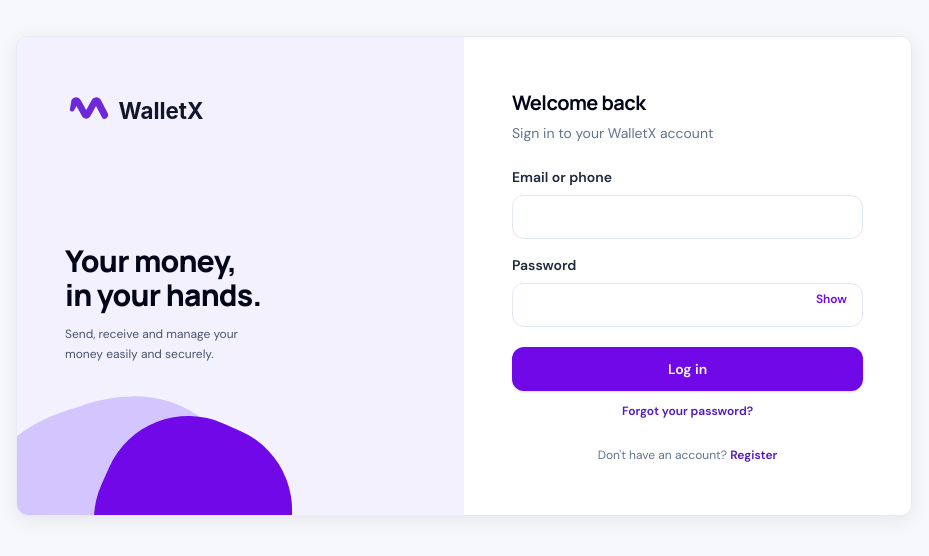
Test: LoginPage › shows validation feedback before submitting incomplete credentials
Click the button "Log in" at (688, 369), box [512,347,863,391]
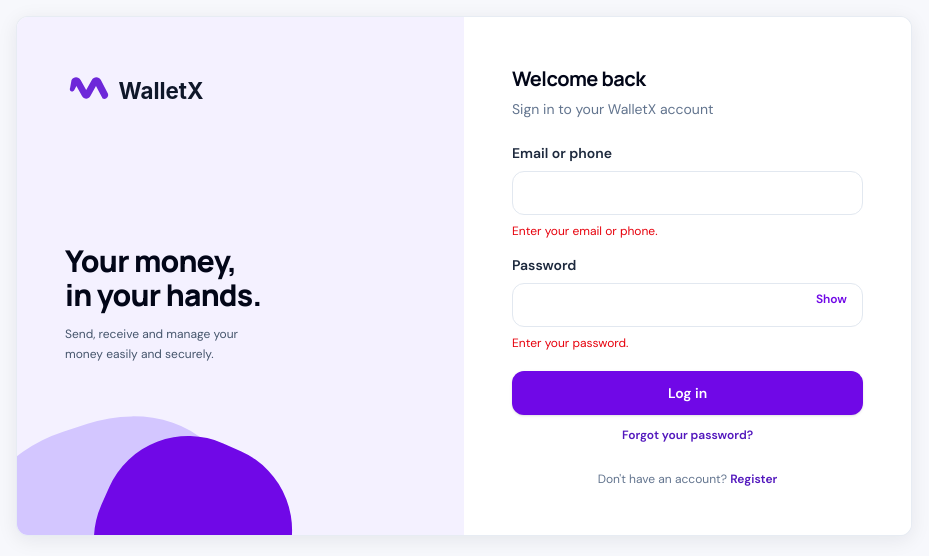
expect the text "Enter your email or phone." is shown: met, box [512,223,658,239]
expect the text "Enter your password." is shown: met, box [512,335,628,351]
expect the number of messages is 2: met, box [512,223,658,239]; [512,335,628,351]
